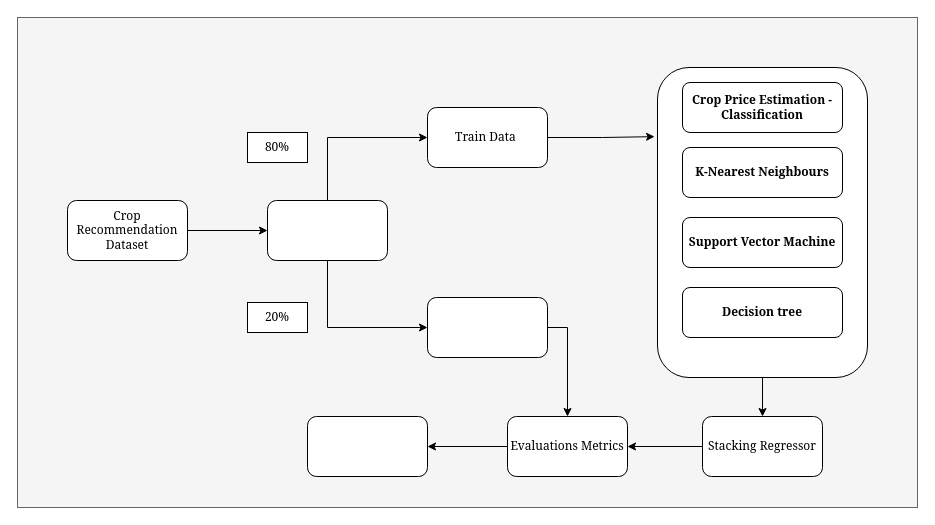
This 935x525 diagram has some shape labels left out. The shapes that lost their labels are listed below. From the top down, each one's centre as x and y in pixels, then its label:
At point 327,230: "Split Data".
At point 487,327: "Test Data".
At point 367,446: "Price Prediction of the crop".
